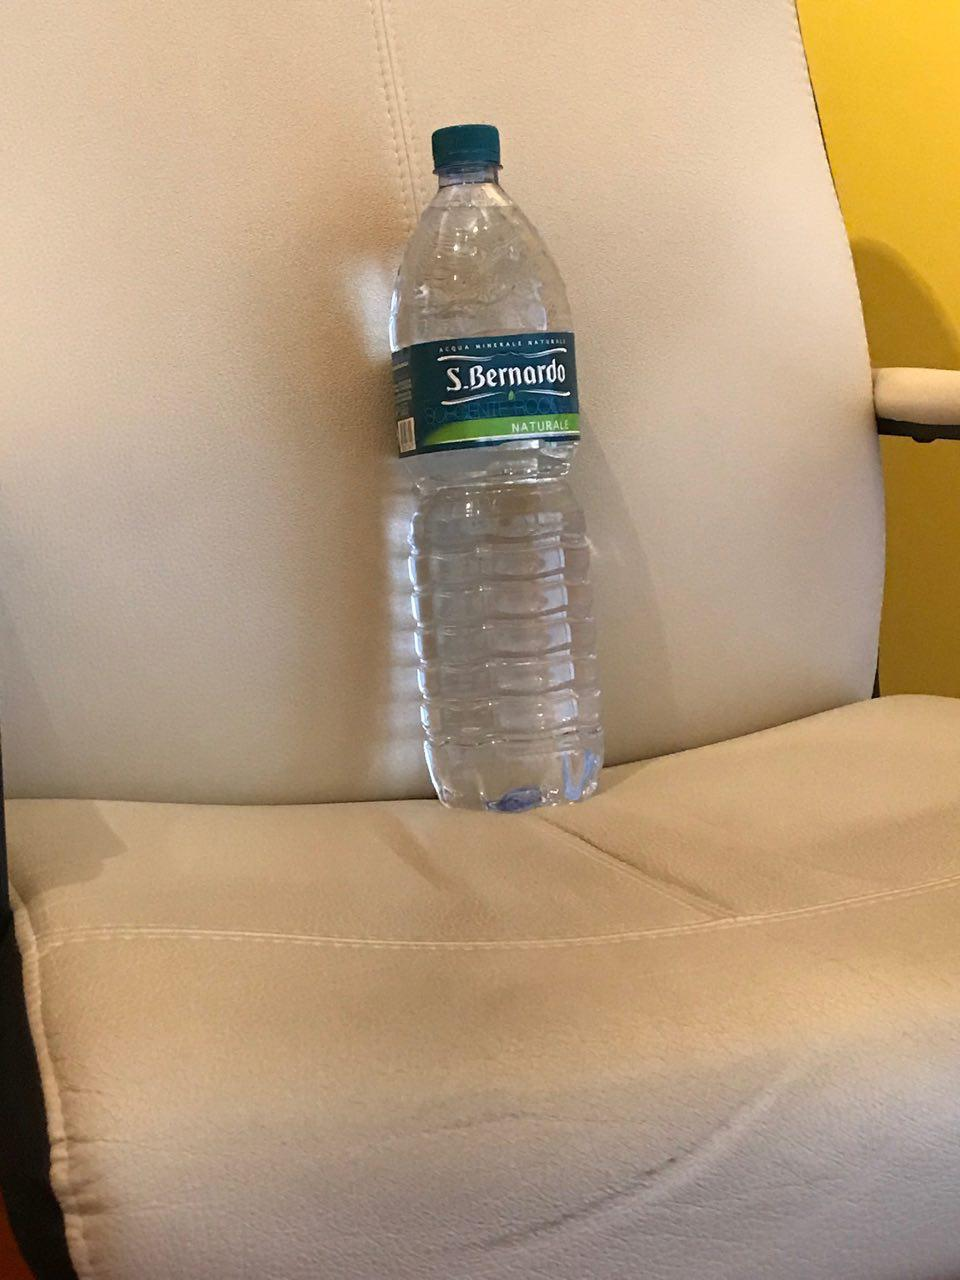san_bernardo: (390, 123, 608, 815)
